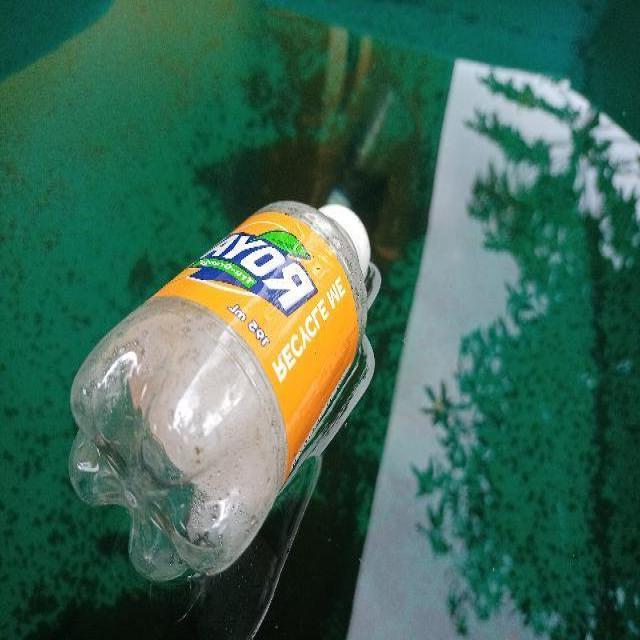Bottle: (58, 190, 386, 586)
